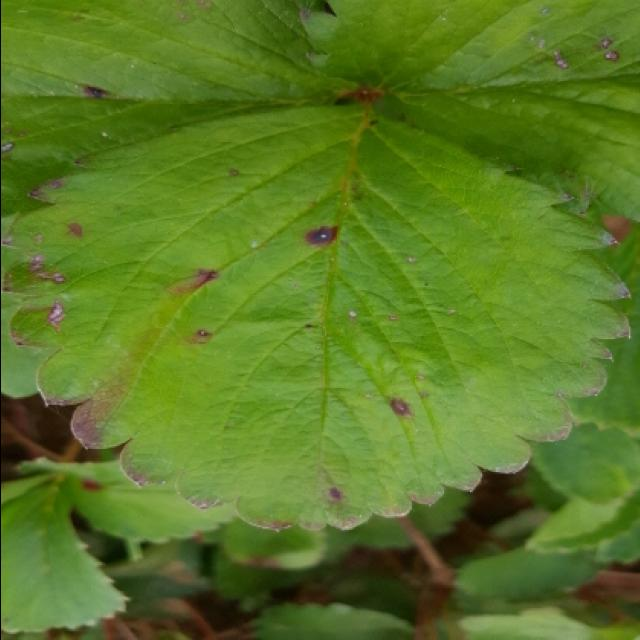Leaf Spot: (2, 99, 632, 533), (2, 2, 352, 223), (298, 2, 640, 227), (15, 456, 236, 545)
